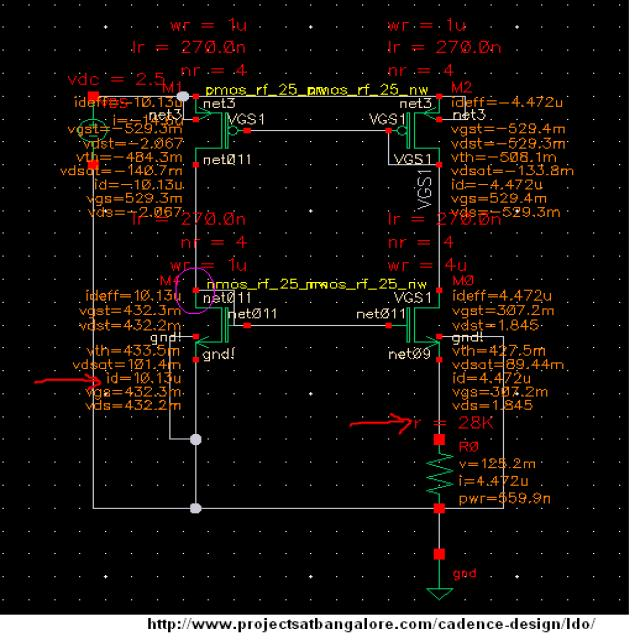nmos: (188, 279, 251, 352), (385, 287, 443, 353)
pmos: (193, 94, 250, 170), (386, 94, 444, 166)
res: (419, 434, 459, 510)
vdc: (78, 90, 108, 169)
